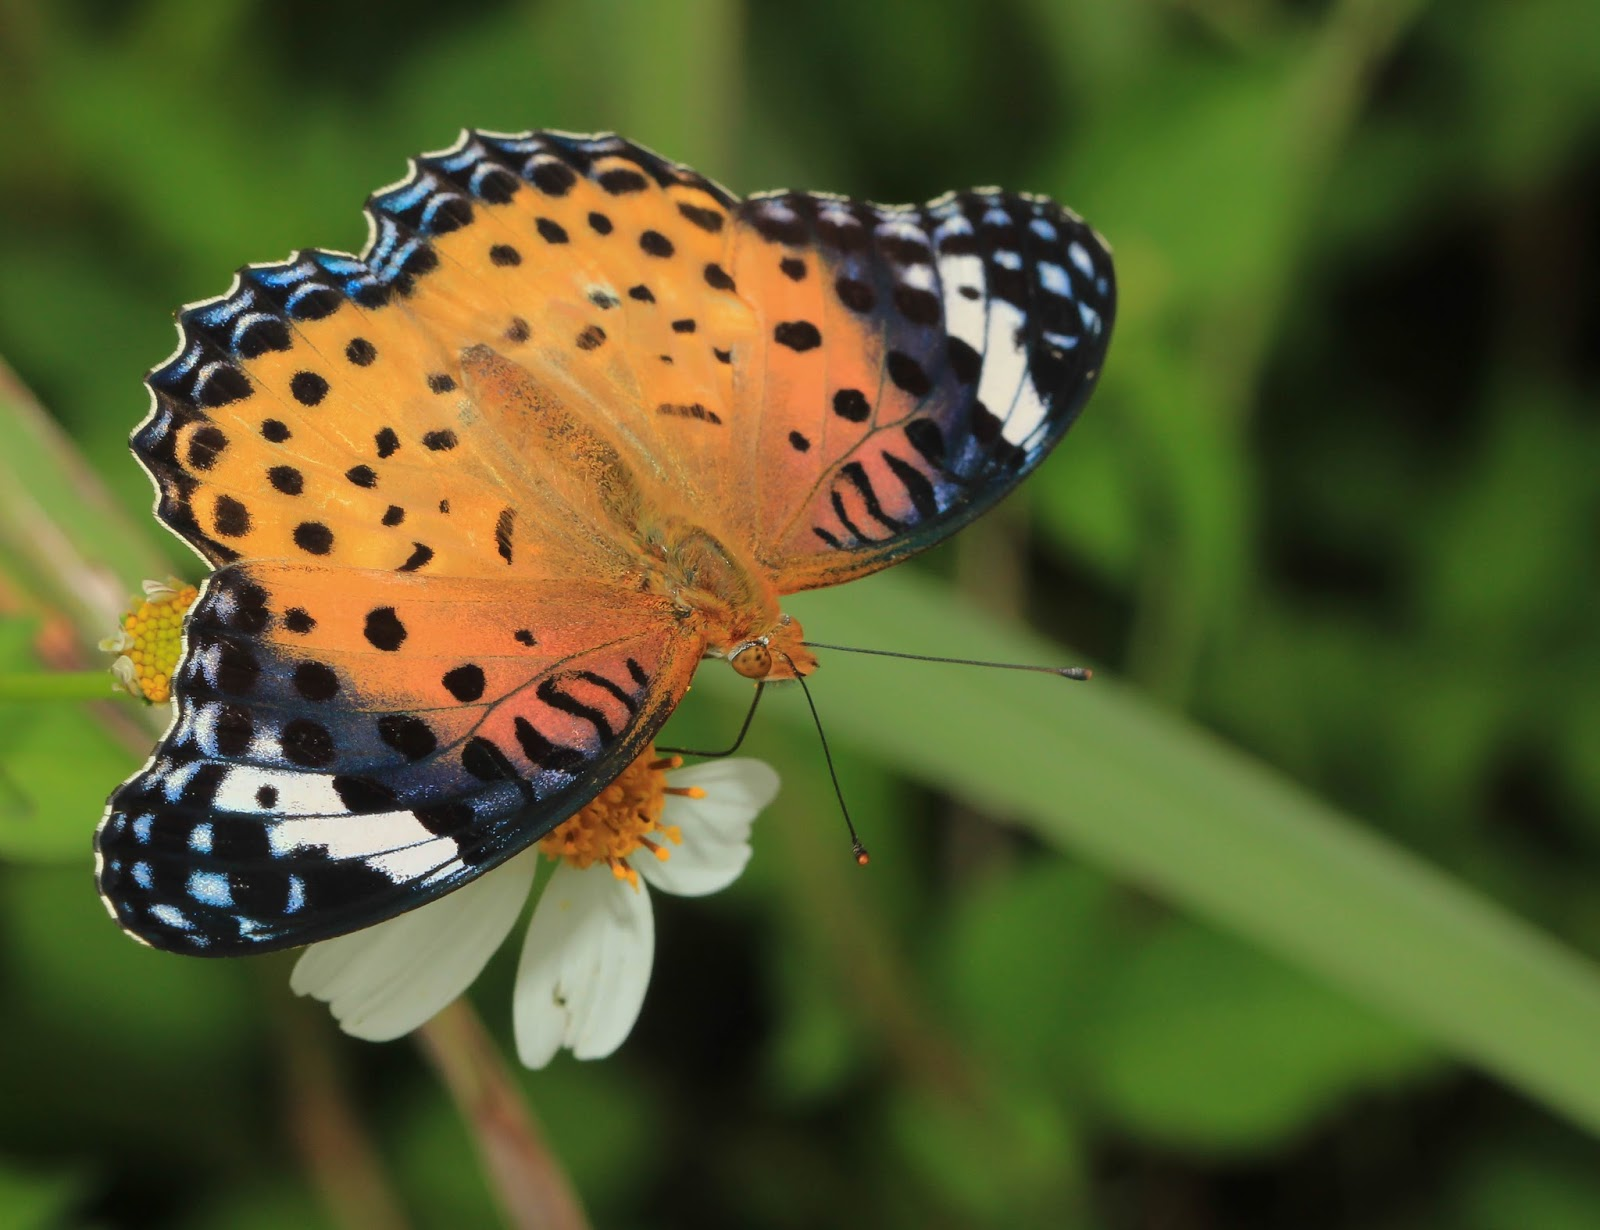Argyreus hyperbius: (79, 118, 1136, 965)
butterfly: (81, 120, 1138, 966)
